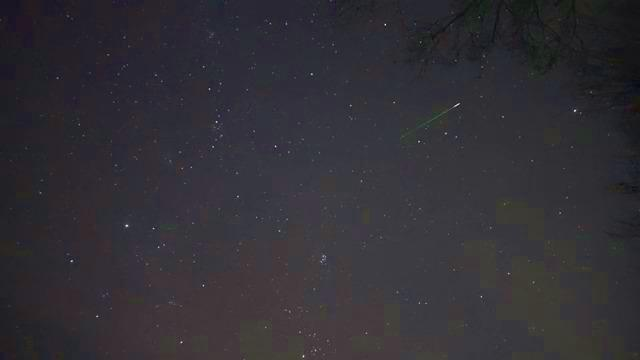meteorite: (387, 99, 475, 138)
